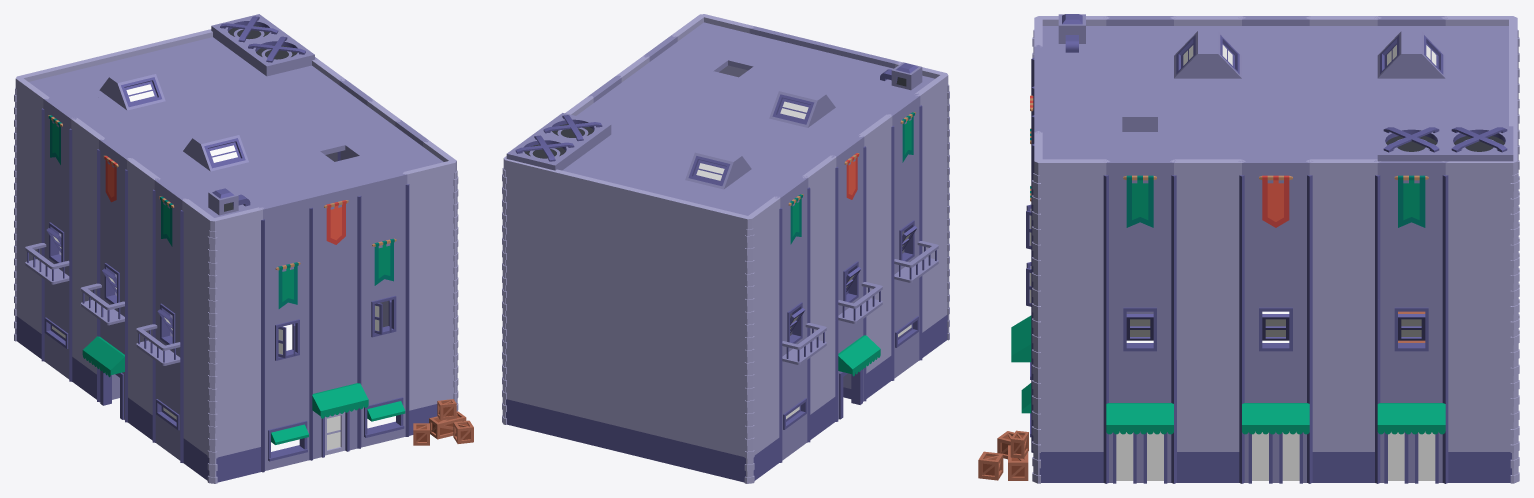
Rendered from VentHouse.fbx.
The picture shows the model from 3 angles, left to right: view 1: azimuth 30°, elevation 25°; view 2: azimuth 150°, elevation 25°; view 3: azimuth 270°, elevation 25°; orthographic projection. The views are drawn at different scales.
Parts seen in each view (by area): view 1: mergedBlocks; view 2: mergedBlocks; view 3: mergedBlocks.
Boxes of the visible parts, left/top/right/bottom form: mergedBlocks: left=14, top=14, right=473, bottom=483; mergedBlocks: left=502, top=14, right=949, bottom=483; mergedBlocks: left=978, top=14, right=1519, bottom=483.
Bounding box in the file's own units: 58.63 × 55 × 79.74.
